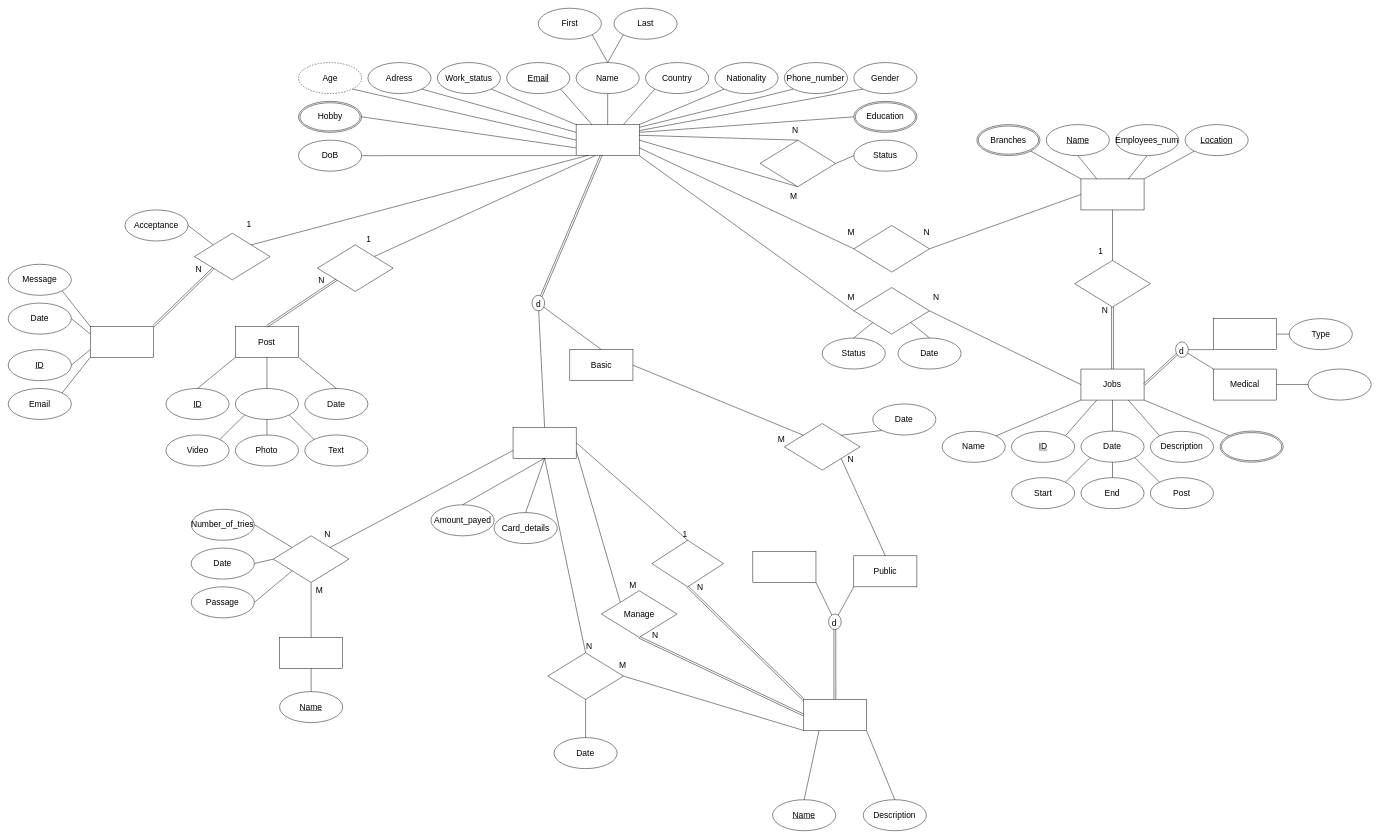
Image size: 1379x839. Some labels were removed from this diagram. The box of each missing label's shape, as (x1, y1, x2, y2) in pixels:
Advert: (1074, 260, 1150, 307)
Application: (853, 287, 930, 334)
Assighnment: (279, 637, 343, 668)
Company: (1080, 178, 1144, 210)
Connect: (760, 140, 836, 187)
Content: (235, 388, 298, 419)
Create: (651, 540, 724, 587)
Engineering: (1213, 318, 1277, 350)
Field: (1308, 369, 1371, 400)
Group: (803, 699, 866, 730)
Invites: (90, 326, 153, 357)
Join: (784, 423, 860, 470)
Join_Private: (547, 652, 623, 699)
Posts: (317, 244, 393, 291)
Premium: (513, 427, 576, 458)
Private: (752, 551, 816, 582)
Skills: (1220, 431, 1283, 462)
Taken: (273, 535, 349, 582)
User: (576, 124, 639, 156)
Who_invited: (194, 233, 270, 280)
Works_for: (853, 225, 930, 272)
